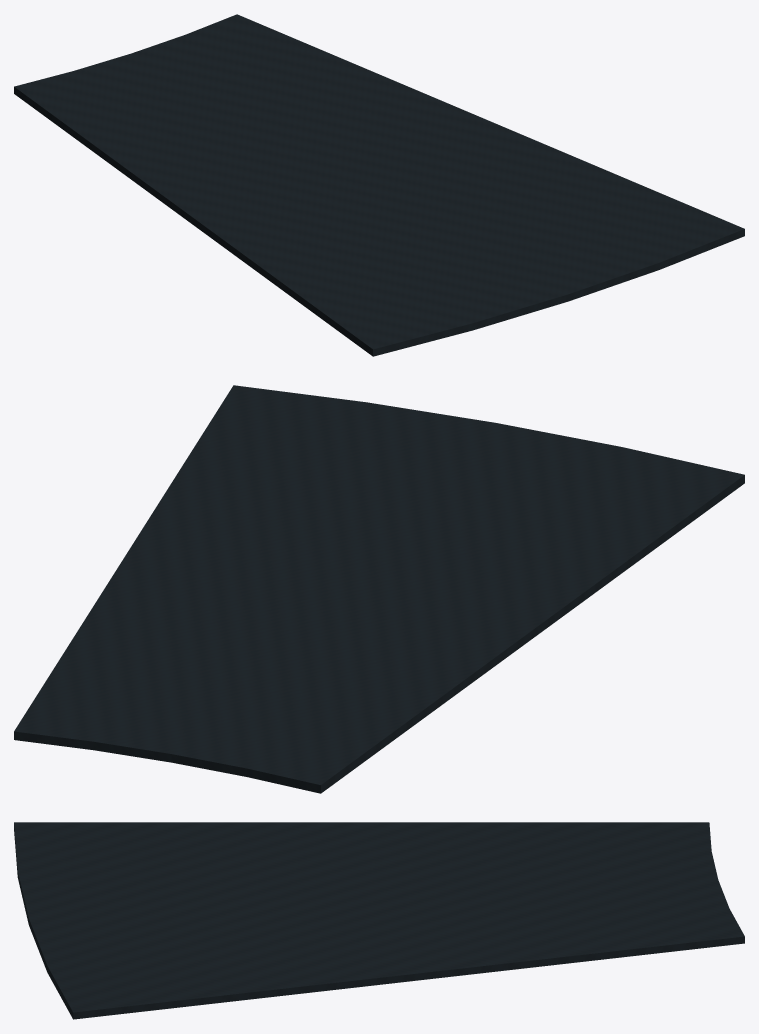
The model's file is Transit_Road_6L_Curve15_R36_Surface.glb.
3 views of the same model, one above another, from view 1: azimuth 30°, elevation 25°; view 2: azimuth 150°, elevation 25°; view 3: azimuth 270°, elevation 25° (orthographic). The views are drawn at different scales.
Visible parts, largest first — view 1: Transit_Road_6L_Curve15_R36_Surface; view 2: Transit_Road_6L_Curve15_R36_Surface; view 3: Transit_Road_6L_Curve15_R36_Surface.
Part boxes in pixels (left/top/right/bottom): Transit_Road_6L_Curve15_R36_Surface: left=14, top=14, right=744, bottom=356; Transit_Road_6L_Curve15_R36_Surface: left=14, top=385, right=744, bottom=793; Transit_Road_6L_Curve15_R36_Surface: left=14, top=822, right=744, bottom=1019.
Size of the model in its own units: 11.65 by 0.2 by 18.92.
Materials: 1 (1 with a texture image).
